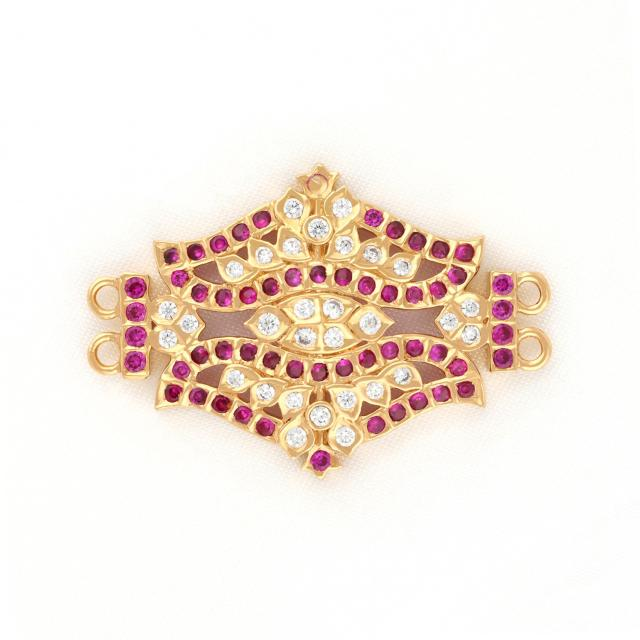missing gem: (307, 174, 328, 194)
